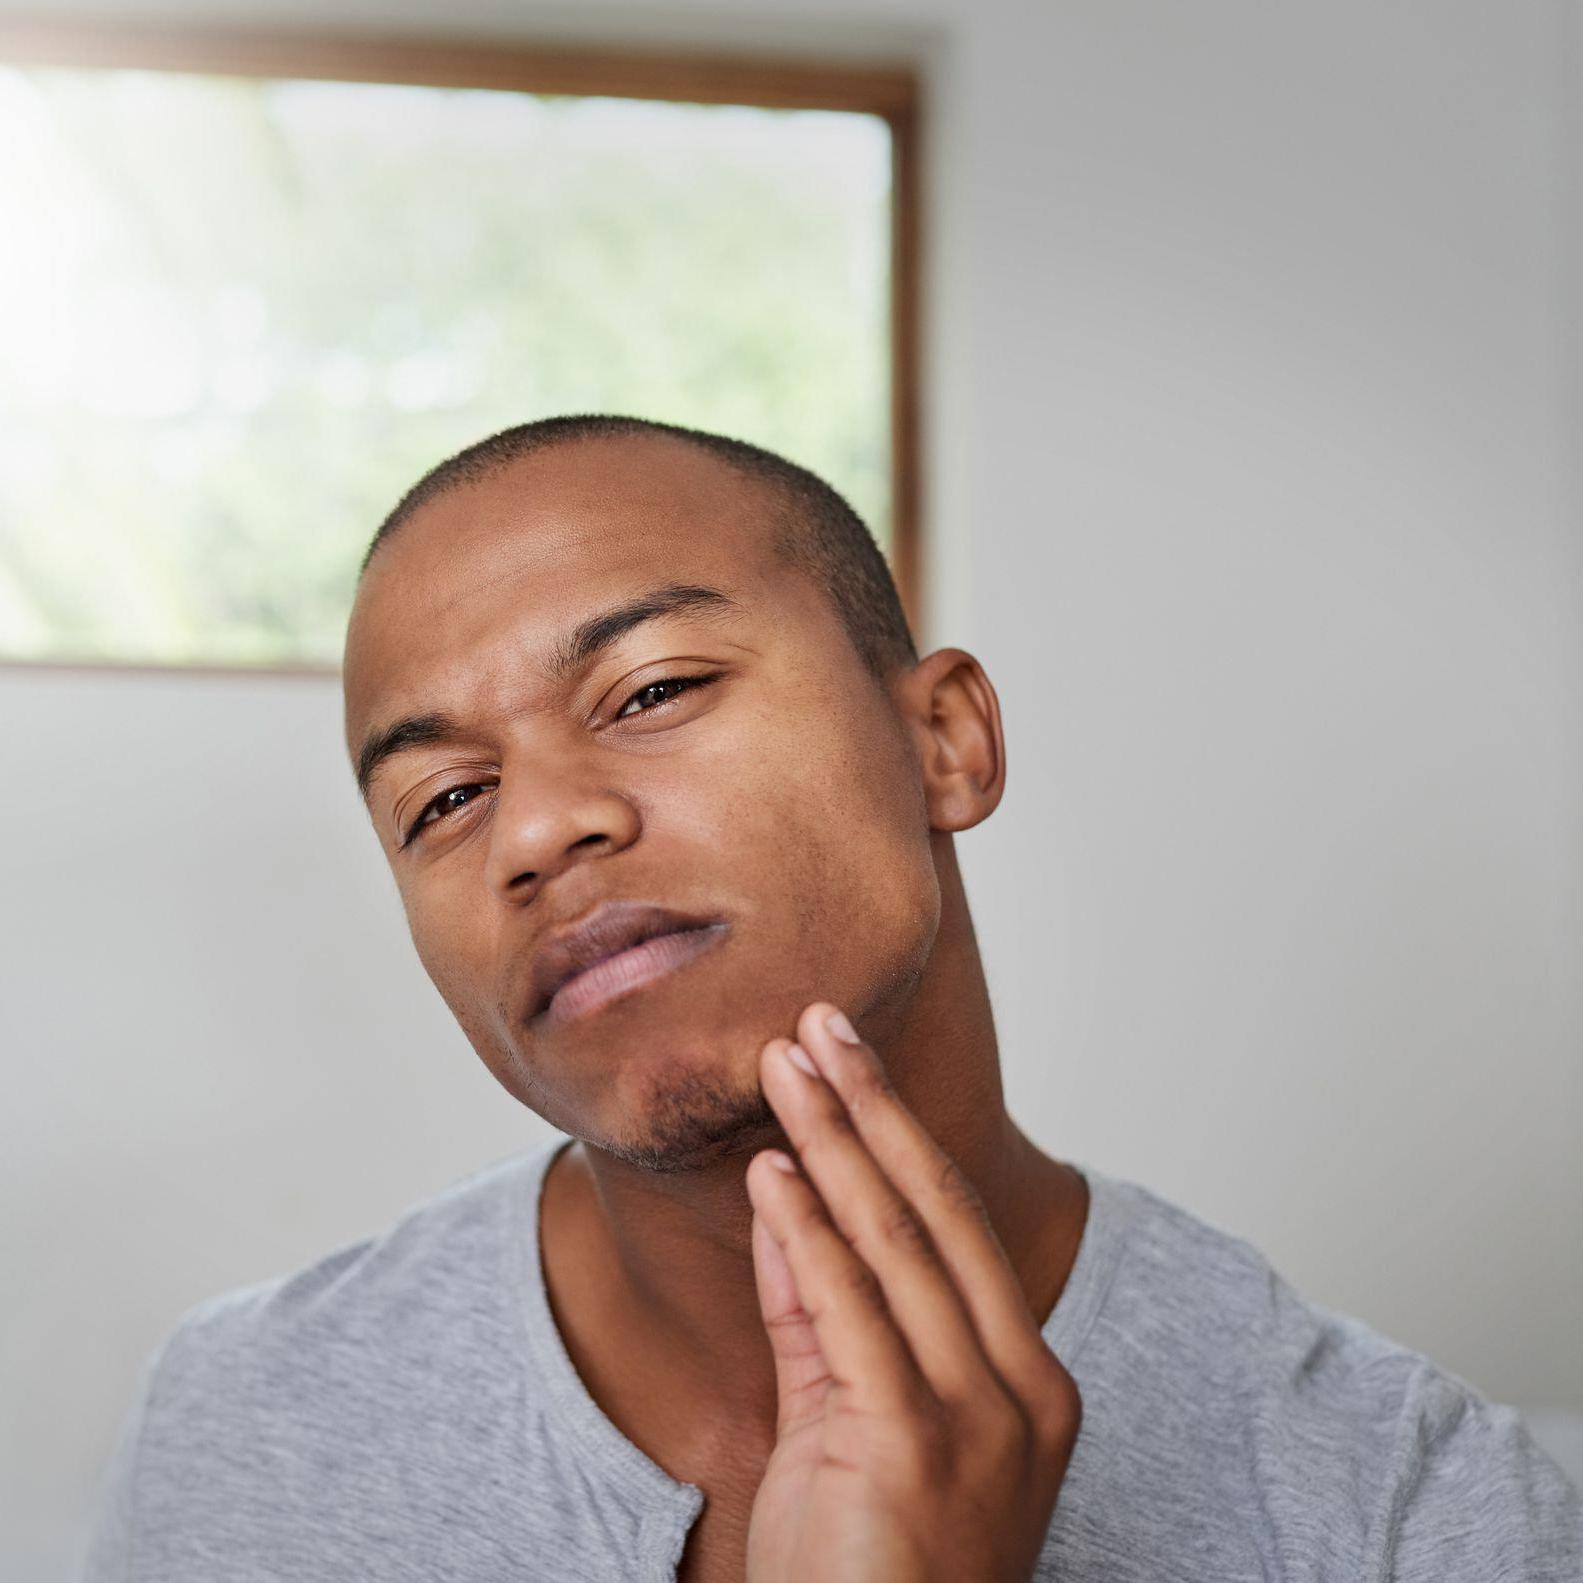Sober: (365, 518, 893, 1110)
